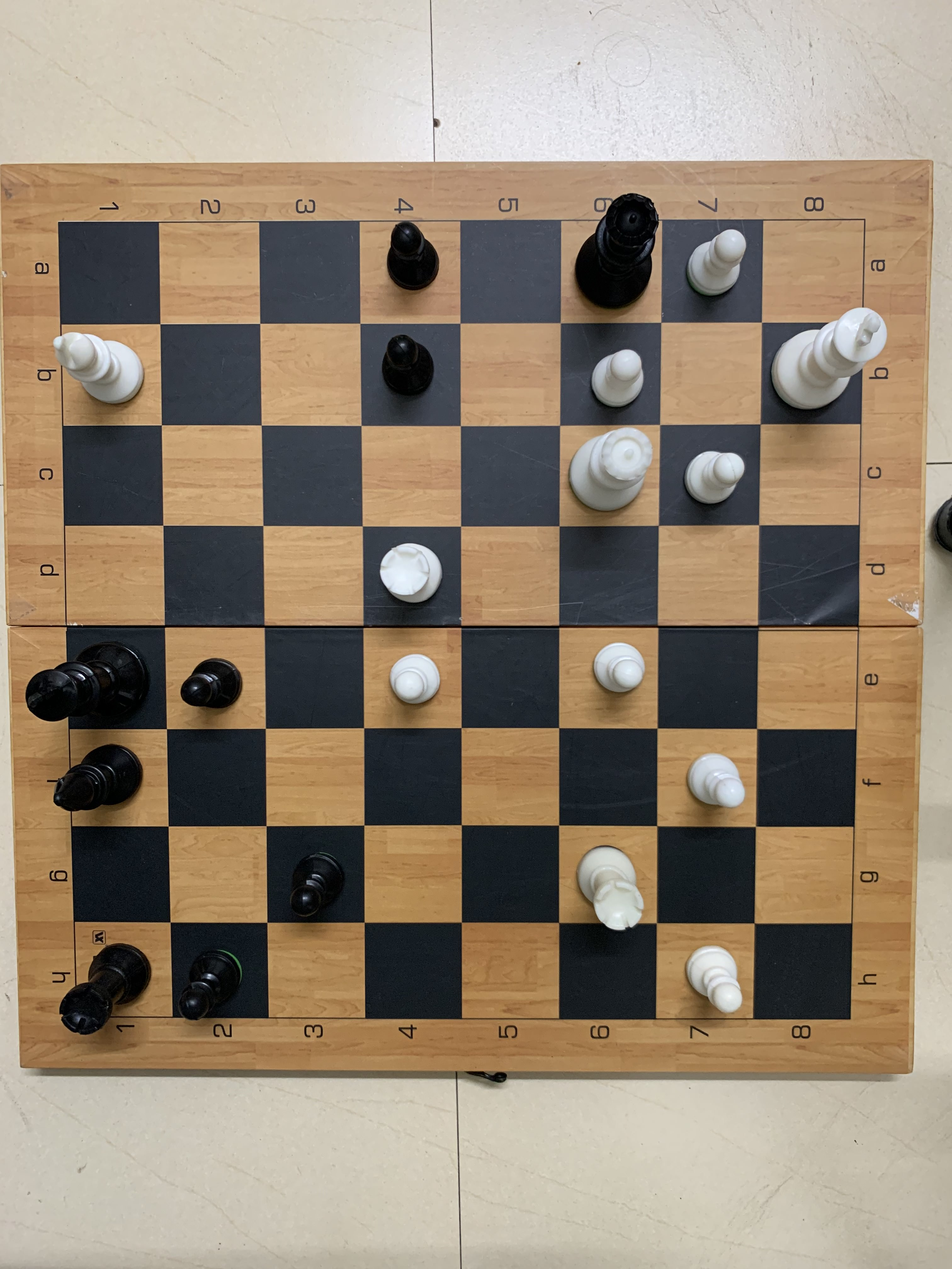black_bishop: (30, 739, 156, 817)
black_king: (22, 622, 165, 729)
black_pawn: (174, 939, 252, 1025), (370, 215, 452, 292), (376, 328, 446, 407), (282, 844, 347, 927), (179, 649, 245, 718)
black_queen: (568, 193, 664, 316)
black_rook: (49, 933, 161, 1044)
white_bishop: (44, 323, 156, 428)
white_king: (771, 288, 899, 420)
white_pawn: (678, 220, 756, 311), (671, 939, 754, 1019), (377, 641, 451, 718), (586, 344, 656, 416), (681, 440, 752, 510), (681, 745, 750, 817), (587, 636, 651, 702)
white_rook: (559, 421, 662, 521), (558, 842, 652, 933), (373, 528, 451, 613)
